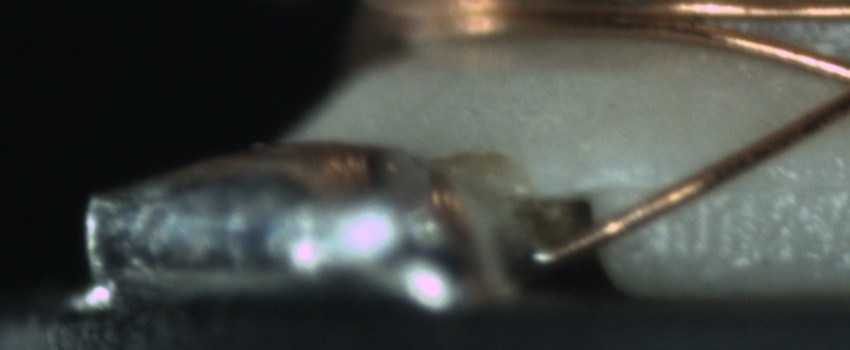DL: (618, 153, 849, 217)
